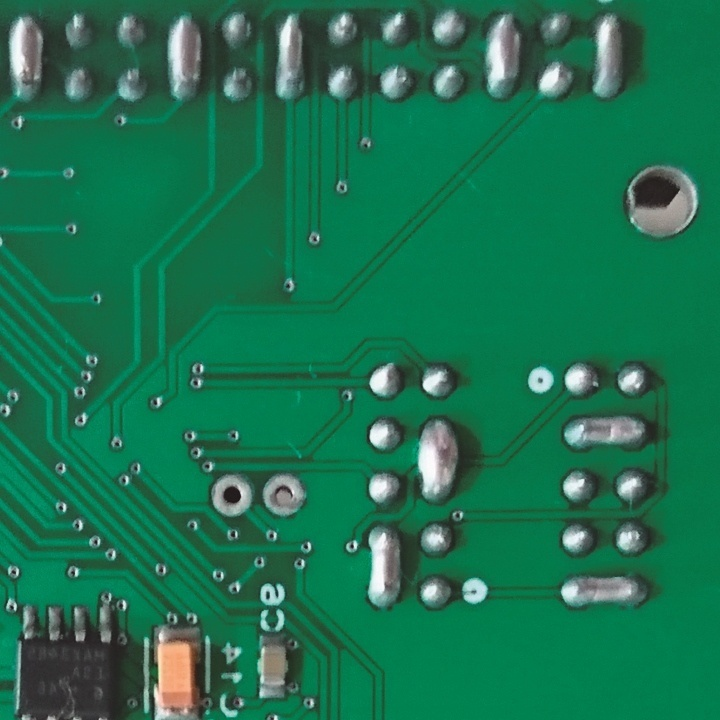F: (258, 471, 307, 522), (207, 473, 256, 520)
P: (559, 408, 655, 458), (270, 10, 315, 109), (561, 569, 651, 617), (416, 412, 458, 506), (589, 11, 630, 107), (485, 11, 524, 106), (10, 12, 47, 110), (167, 9, 203, 109), (364, 518, 400, 613)
